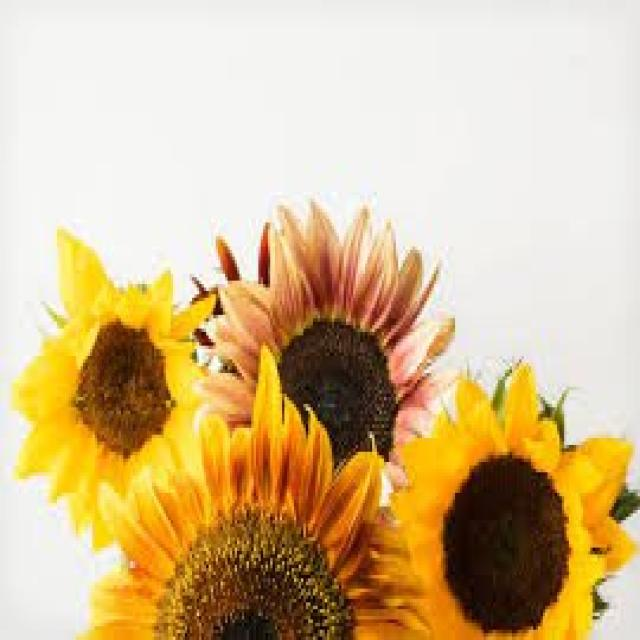sunflower: (80, 349, 438, 640), (206, 195, 458, 503), (393, 359, 640, 640), (6, 224, 203, 563)
